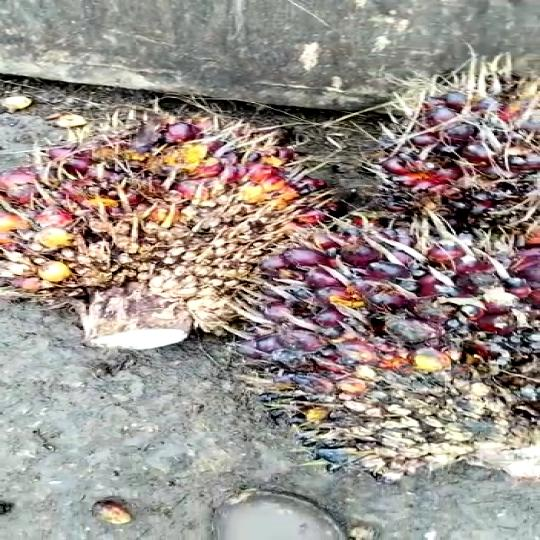masak: (222, 209, 540, 492), (1, 110, 355, 360), (351, 46, 540, 241)
